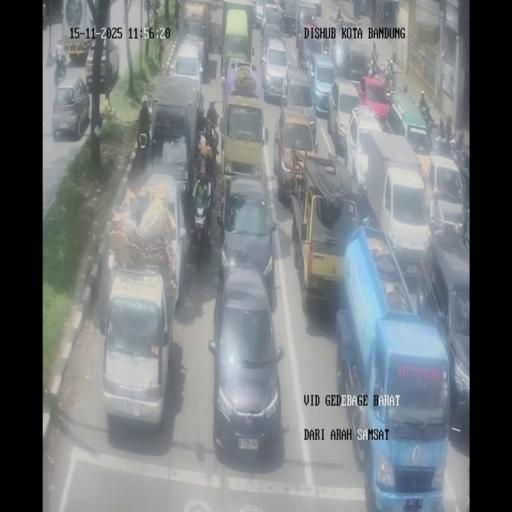3: (337, 230, 449, 507), (294, 154, 364, 318), (356, 129, 427, 278), (146, 80, 202, 210), (220, 1, 255, 82), (60, 0, 94, 62), (293, 0, 321, 49)
car: (208, 269, 284, 464), (100, 265, 176, 432), (217, 176, 277, 302), (218, 93, 266, 191), (274, 104, 318, 205), (422, 153, 466, 236), (329, 76, 363, 154), (52, 76, 89, 140), (305, 52, 337, 116), (259, 38, 290, 104), (170, 40, 205, 94), (85, 38, 119, 92), (356, 75, 390, 124), (339, 44, 370, 82), (275, 0, 298, 34), (252, 0, 271, 27)
truck: (190, 199, 211, 269), (432, 130, 456, 158), (204, 121, 220, 157), (452, 143, 468, 177), (419, 105, 434, 140), (194, 134, 206, 176), (137, 129, 150, 167), (210, 19, 223, 54), (383, 69, 395, 96), (54, 59, 66, 85), (368, 58, 380, 78), (153, 0, 160, 27), (321, 39, 330, 59), (174, 0, 180, 30), (198, 92, 204, 120), (336, 13, 344, 30), (42, 3, 47, 27)
